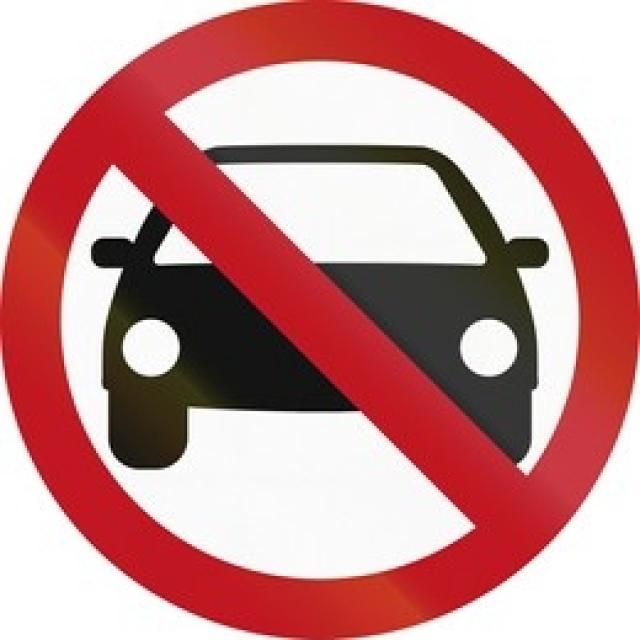all motor vehicle prohibited: (15, 16, 622, 619)
